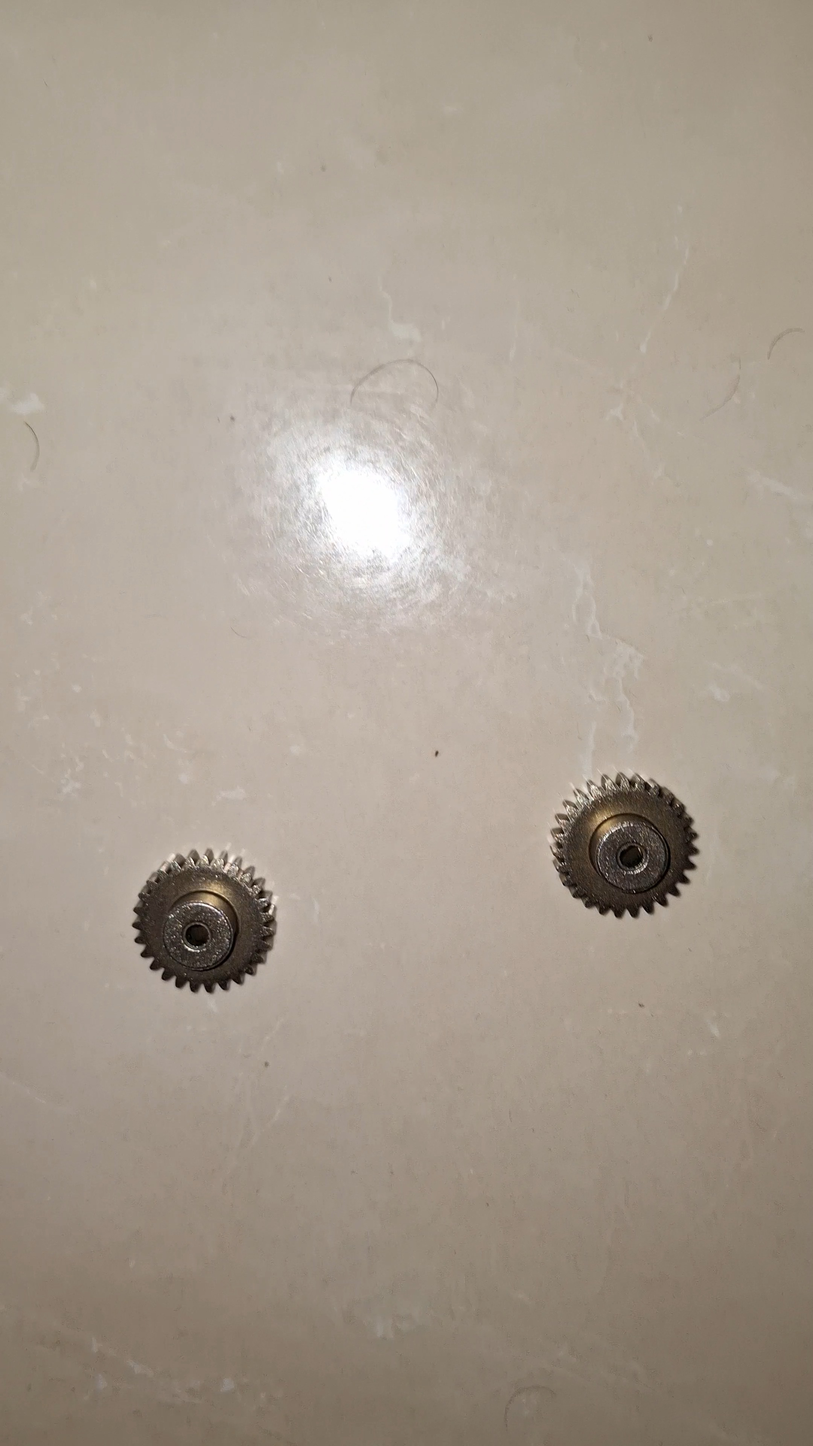spur gear: (557, 766, 701, 909), (140, 845, 281, 987)
